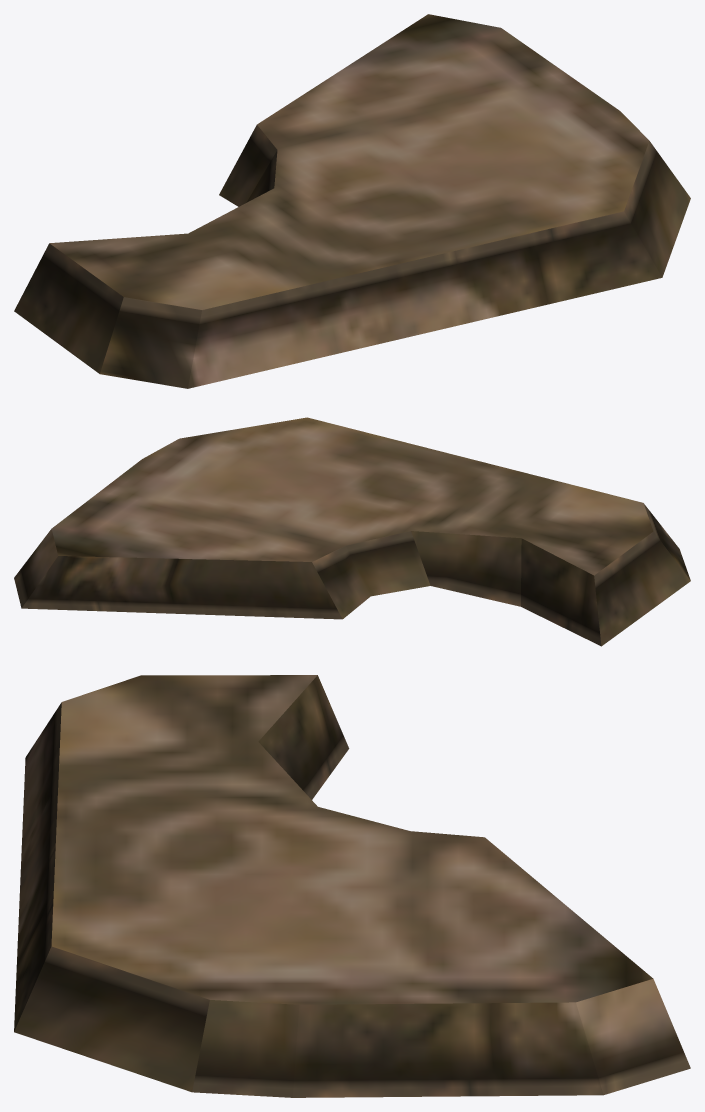
The model's file is A_dizhuan_007.fbx.
The picture shows the model from 3 angles, top to bottom: view 1: azimuth 30°, elevation 25°; view 2: azimuth 150°, elevation 25°; view 3: azimuth 270°, elevation 25°; orthographic projection. The views are drawn at different scales.
Visible parts, largest first — view 1: A_dizhuan_007; view 2: A_dizhuan_007; view 3: A_dizhuan_007.
Part boxes in pixels (<box>): A_dizhuan_007: <box>14,14,690,388</box>; A_dizhuan_007: <box>14,417,690,646</box>; A_dizhuan_007: <box>14,675,690,1097</box>.
Size of the model in its own units: 28.21 by 3.08 by 21.79.
